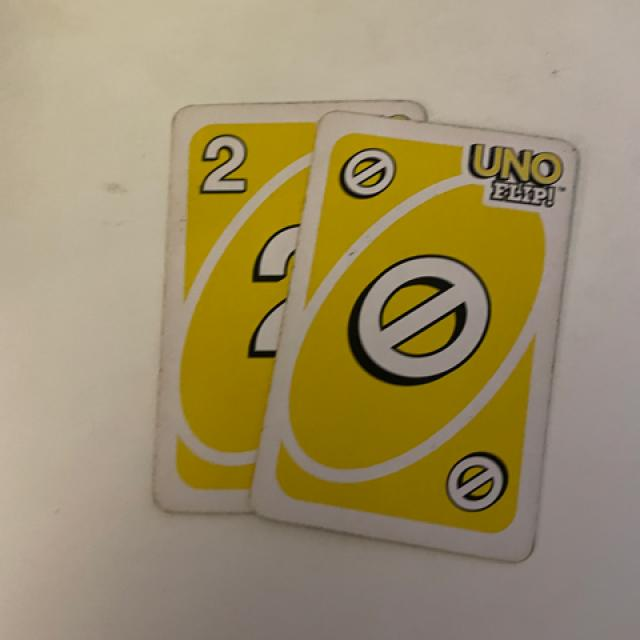lyellow-2: (183, 116, 263, 217)
lyellowskip-20: (329, 130, 414, 232)
